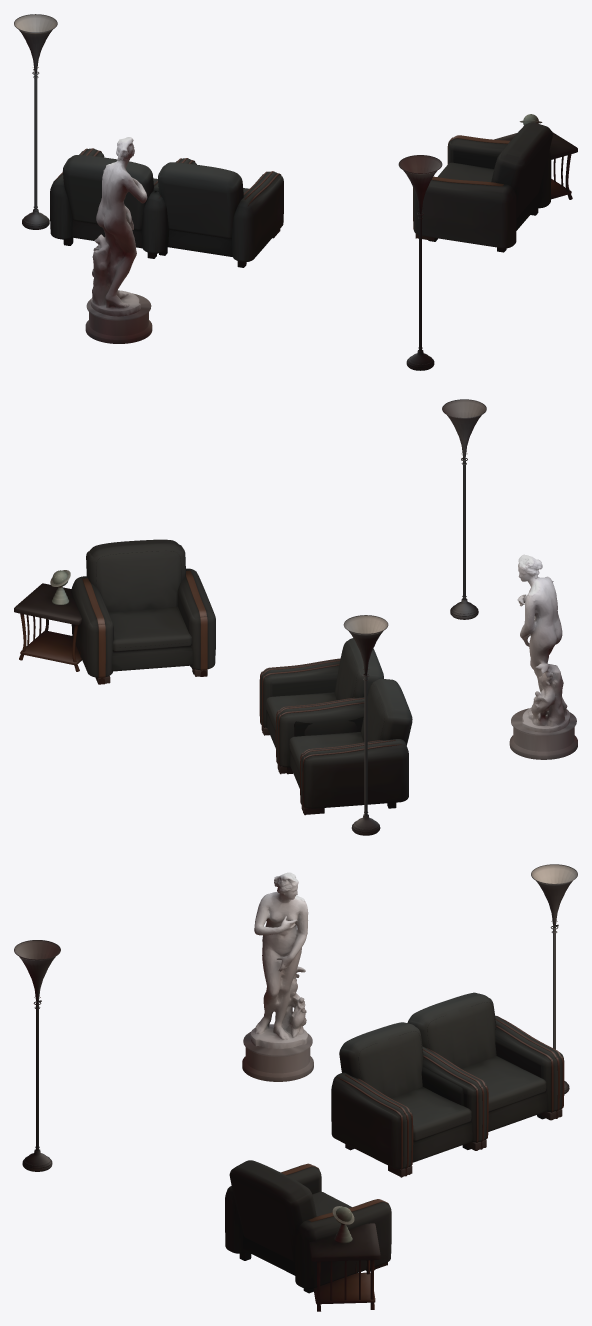
Rendered from repeated-props.glb.
The picture shows the model from 3 angles, top to bottom: view 1: azimuth 30°, elevation 25°; view 2: azimuth 150°, elevation 25°; view 3: azimuth 270°, elevation 25°; orthographic projection. The views are drawn at different scales.
Visible parts, largest first — view 1: repeated-props | F props; view 2: repeated-props | F props; view 3: repeated-props | F props.
Boxes of the visible parts, <box> form: repeated-props | F props: <box>14,14,577,370</box>; repeated-props | F props: <box>14,399,577,835</box>; repeated-props | F props: <box>14,864,577,1311</box>.
Bounding box in the file's own units: 5.23 × 2 × 4.72.
